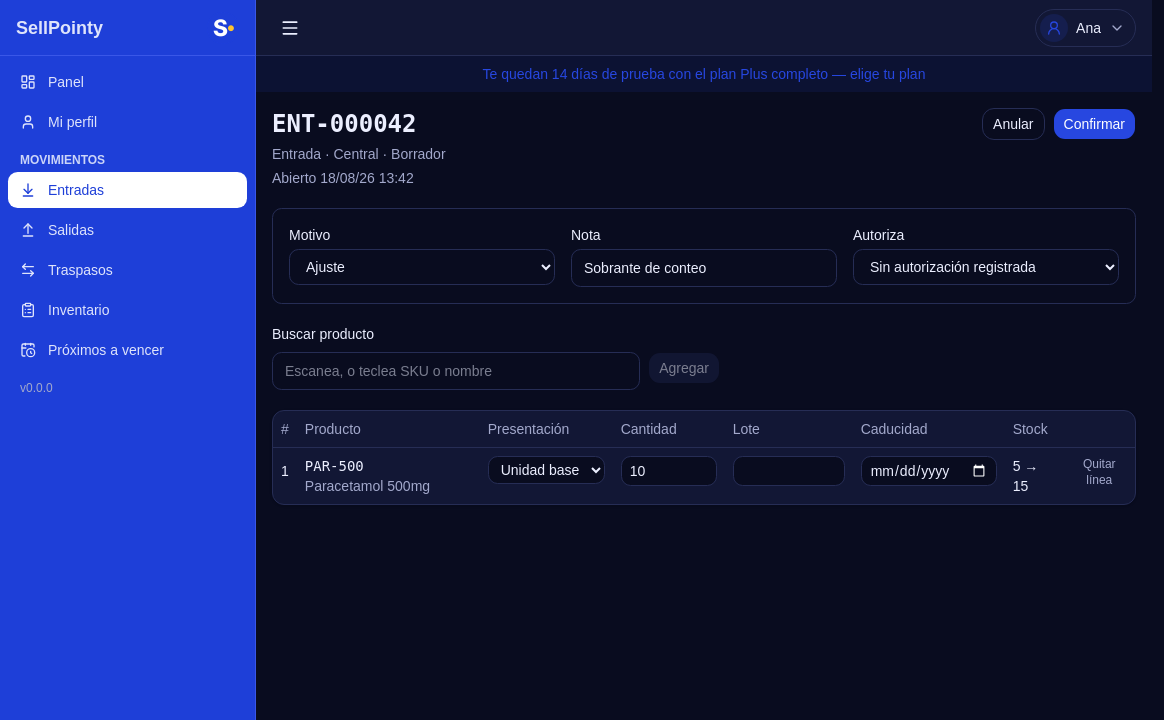
Test case: Pantalla del documento (F3-DOC-09) › la caducidad sigue al lote (Carlos, 2026-09-01) › cambiar a OTRO lote conocido re-llena su caducidad — no se queda la del anterior
Expected: the text "PAR-500" is shown, 305,456 -> 364,476
Step 1. Type "ST1" into the field named "Lote" → (789, 471), box 733,456 -> 845,486
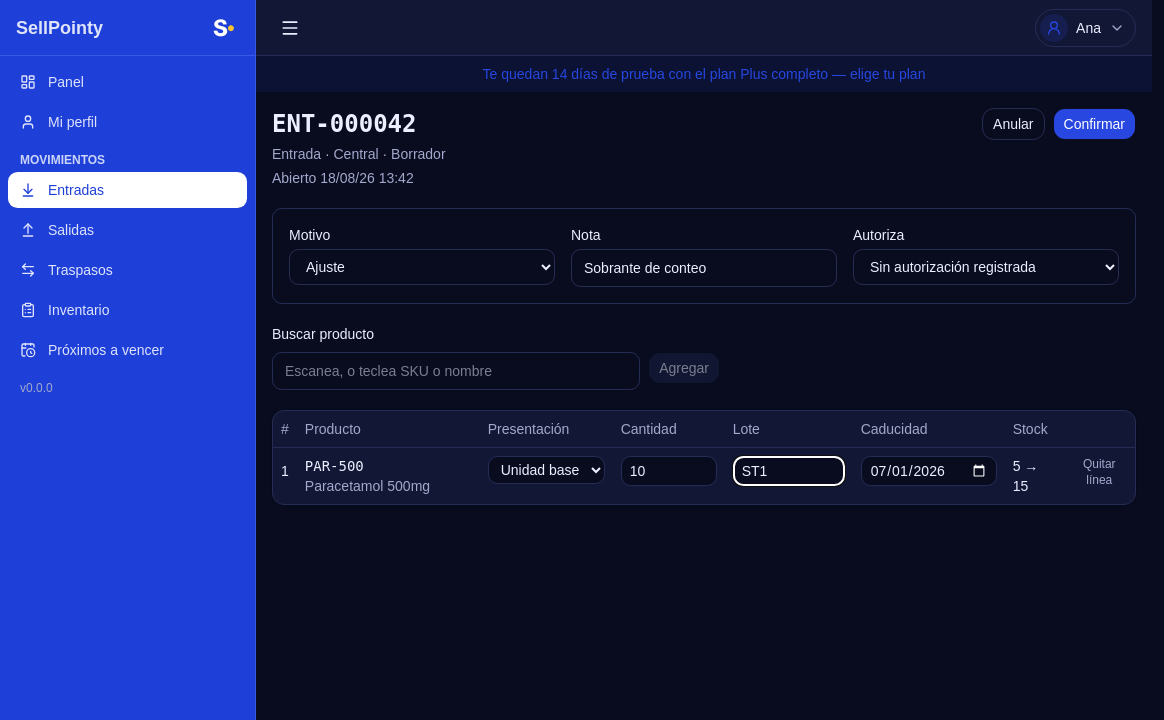
Now the date field named "Caducidad" holds "2026-07-01", box 861,456 -> 997,486
Step 2. Replace the text in the field named "Lote" with "ST2" → (789, 471), box 733,456 -> 845,486
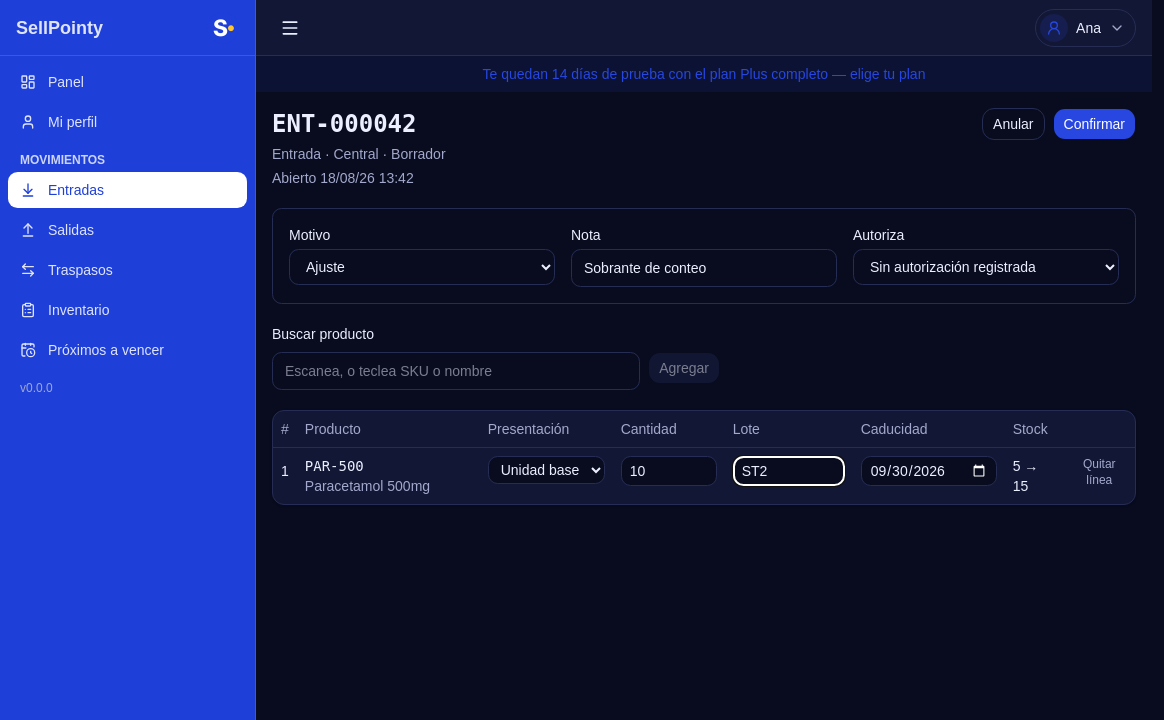
Now the date field named "Caducidad" holds "2026-09-30", box 861,456 -> 997,486
